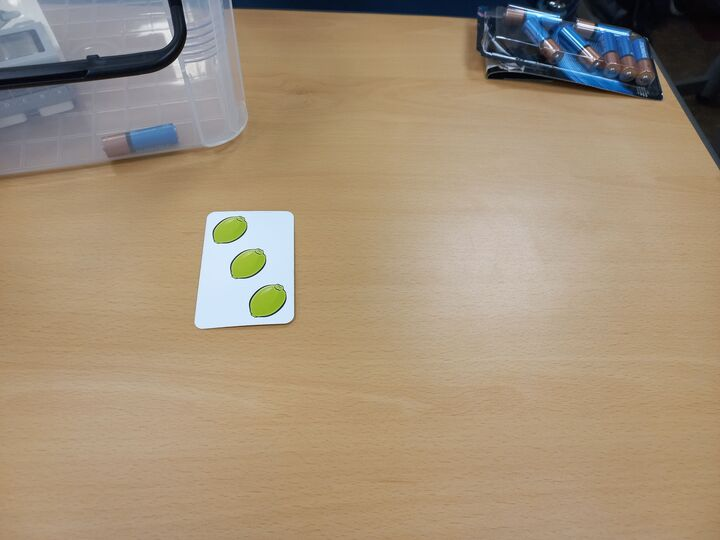lime3: (191, 208, 298, 330)
